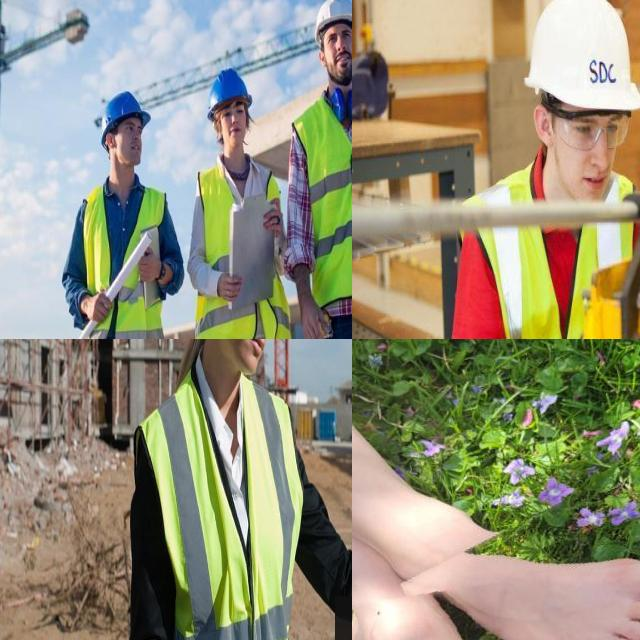Barefoots: (423, 493, 640, 640)
No_Ear-Protection: (530, 99, 551, 150), (317, 50, 328, 69), (105, 131, 116, 149)
No_Glasses: (325, 24, 352, 48), (123, 118, 144, 138), (218, 105, 246, 119)
face_nomask: (548, 100, 625, 206), (319, 21, 352, 88), (225, 339, 281, 378), (109, 113, 147, 168), (214, 100, 248, 145)
glasses: (550, 101, 630, 156)
hand_noglove: (133, 242, 168, 288), (295, 296, 331, 339), (79, 292, 112, 326), (215, 266, 240, 310), (264, 198, 284, 246)
head_helmet: (528, 0, 640, 111), (97, 90, 150, 132), (207, 66, 251, 109), (309, 0, 352, 26)
person: (455, 0, 640, 339), (154, 339, 308, 640), (197, 74, 277, 339), (295, 0, 352, 339), (99, 92, 164, 339)
vest: (145, 374, 301, 640), (479, 175, 640, 339), (196, 169, 287, 339), (85, 185, 166, 339), (296, 106, 352, 290)
